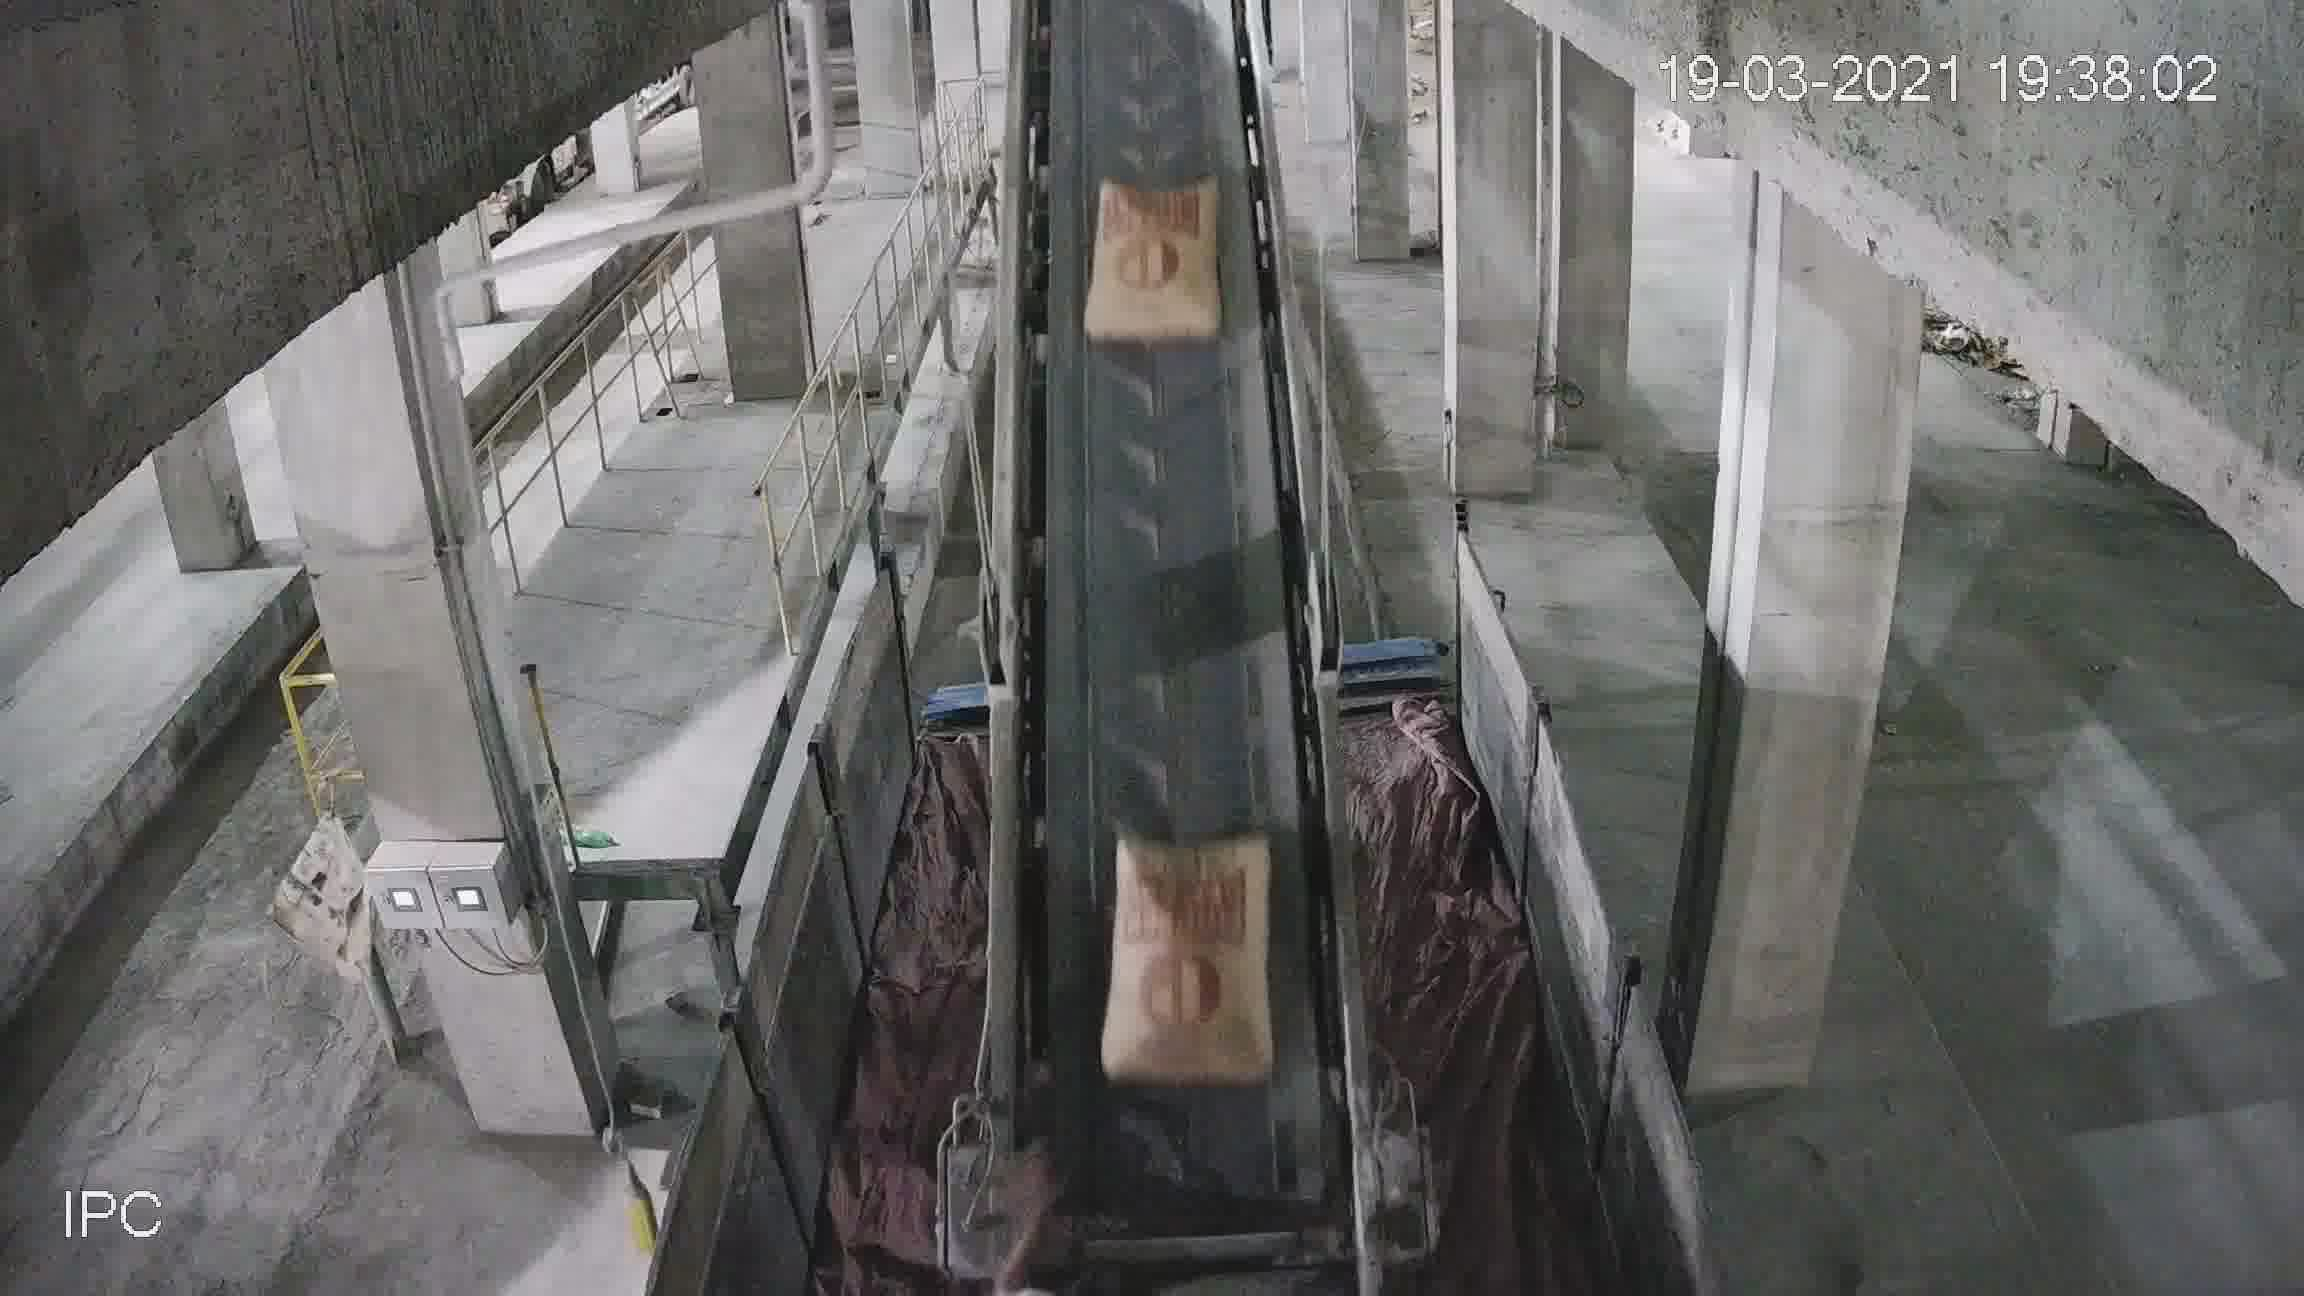bag: (1112, 831, 1272, 1090), (1084, 187, 1225, 342)
belt: (991, 14, 1350, 1117)
